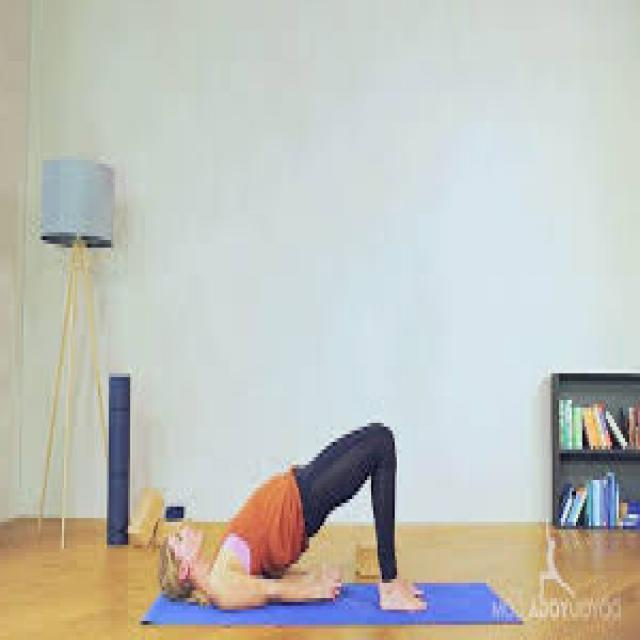yoga-pose bridge: (150, 398, 426, 614)
